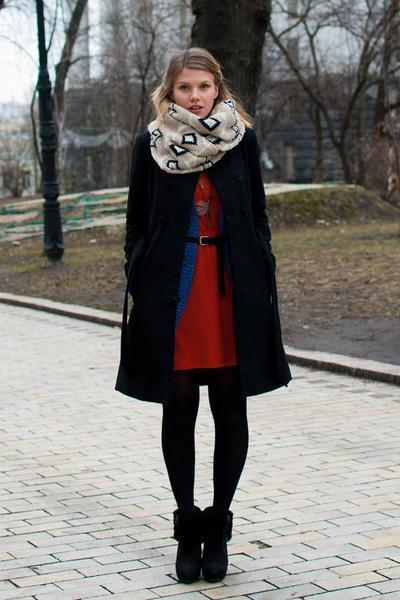dress: (157, 152, 234, 377)
jacket: (110, 116, 286, 408)
